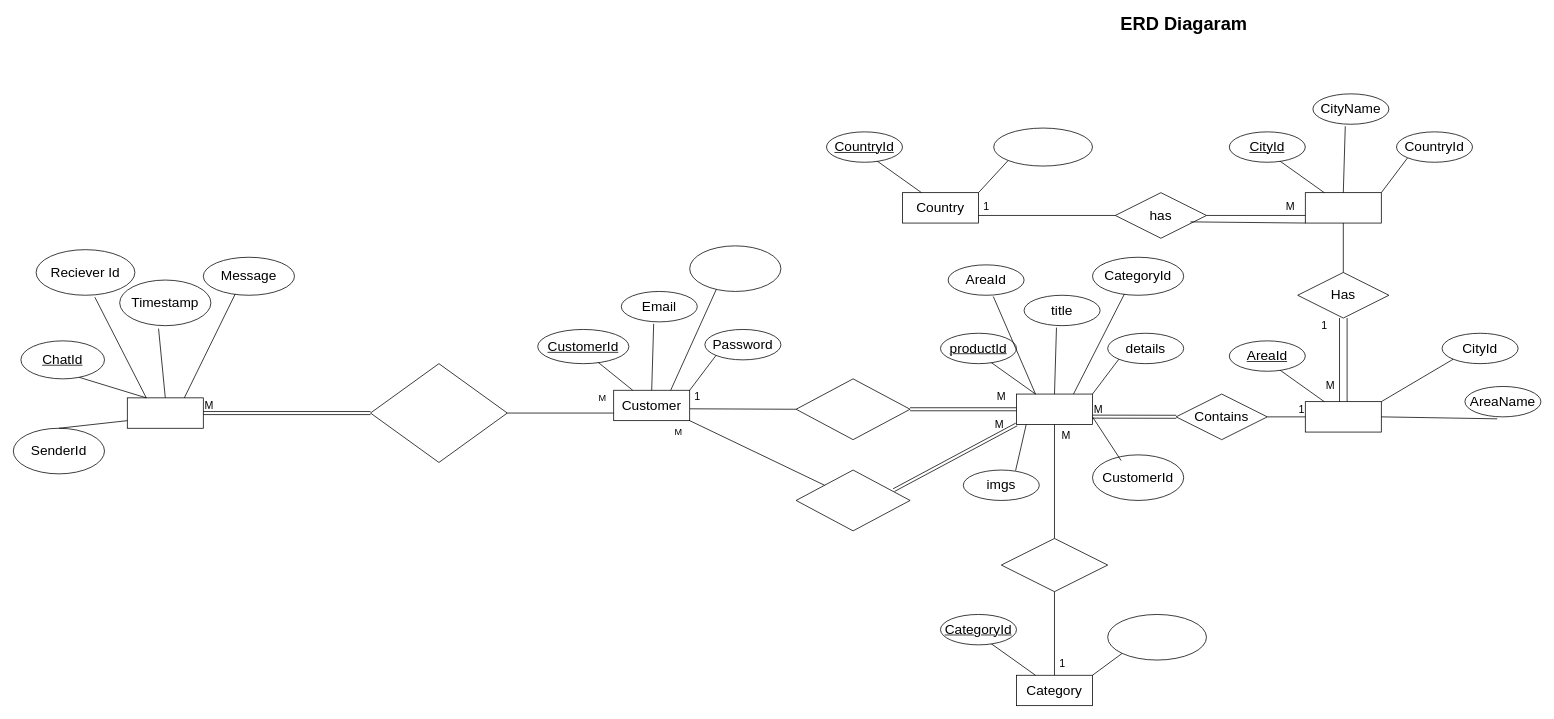
This 1554x719 diagram has some shape labels left out. Each missing label, with the centre of its shape:
area: the point at 1343,416
browses: the point at 852,500
Categorizes: the point at 1054,565
CategoryName: the point at 1156,637
Chat: the point at 165,412
City: the point at 1343,207
CountryName: the point at 1042,146
Posts: the point at 852,409
Product: the point at 1054,408
Send/recieve messages: the point at 438,412
Username: the point at 735,268
